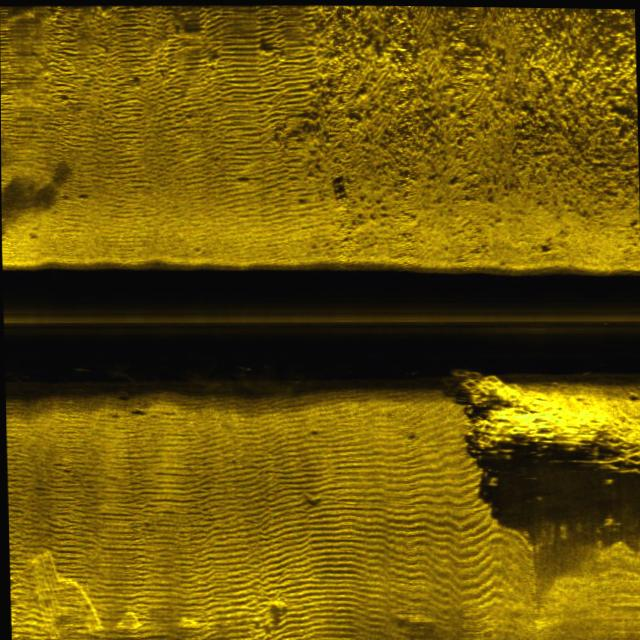artificial reef: (443, 366, 640, 482)
